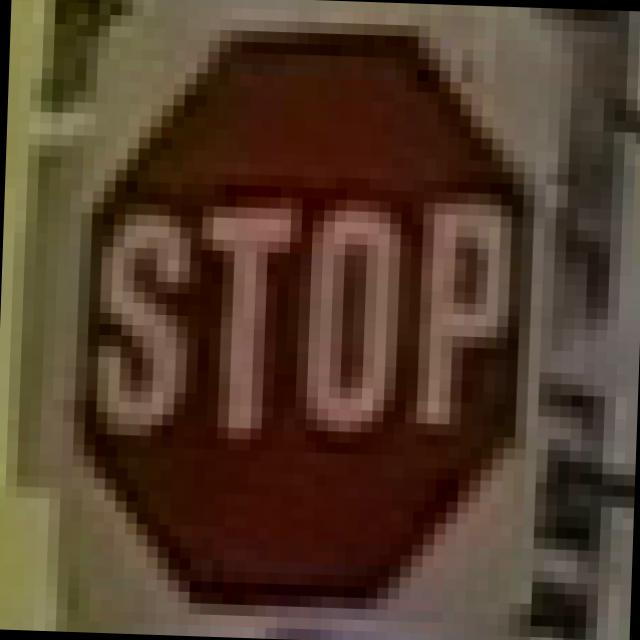mandatorystop_sign: (72, 168, 512, 459)
